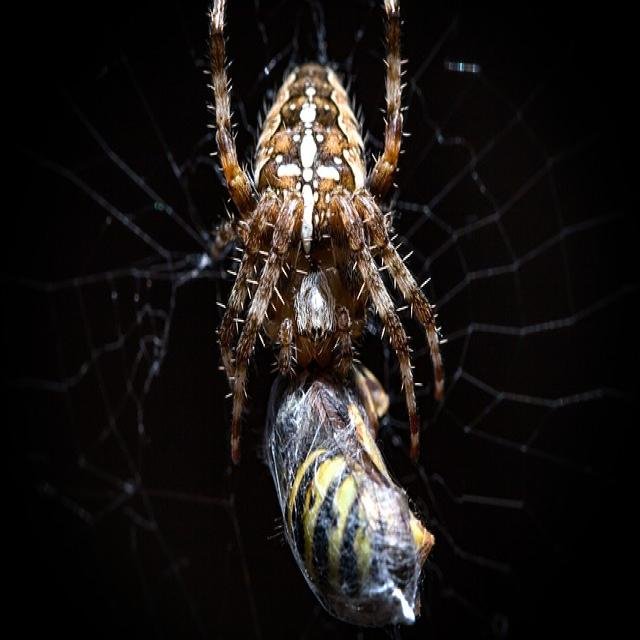spyder: (211, 4, 442, 459)
